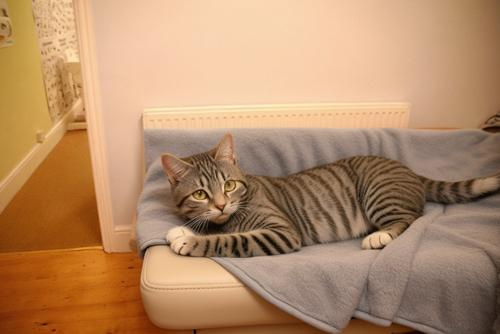cat: (134, 128, 500, 332)
person: (215, 131, 318, 251)
person/foot: (295, 217, 315, 236), (269, 230, 282, 248)
person/hand: (241, 206, 255, 224), (264, 195, 279, 206)
person/head: (233, 131, 273, 180)
